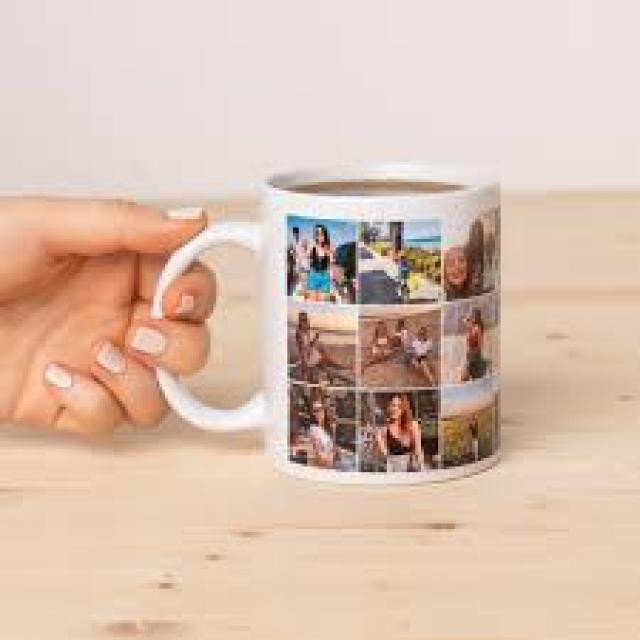taza: (151, 162, 501, 482)
